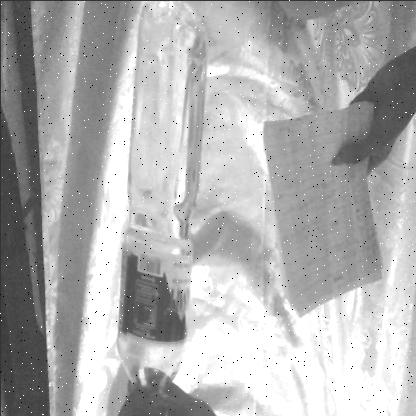Plastic Bottle: (112, 0, 204, 406)
